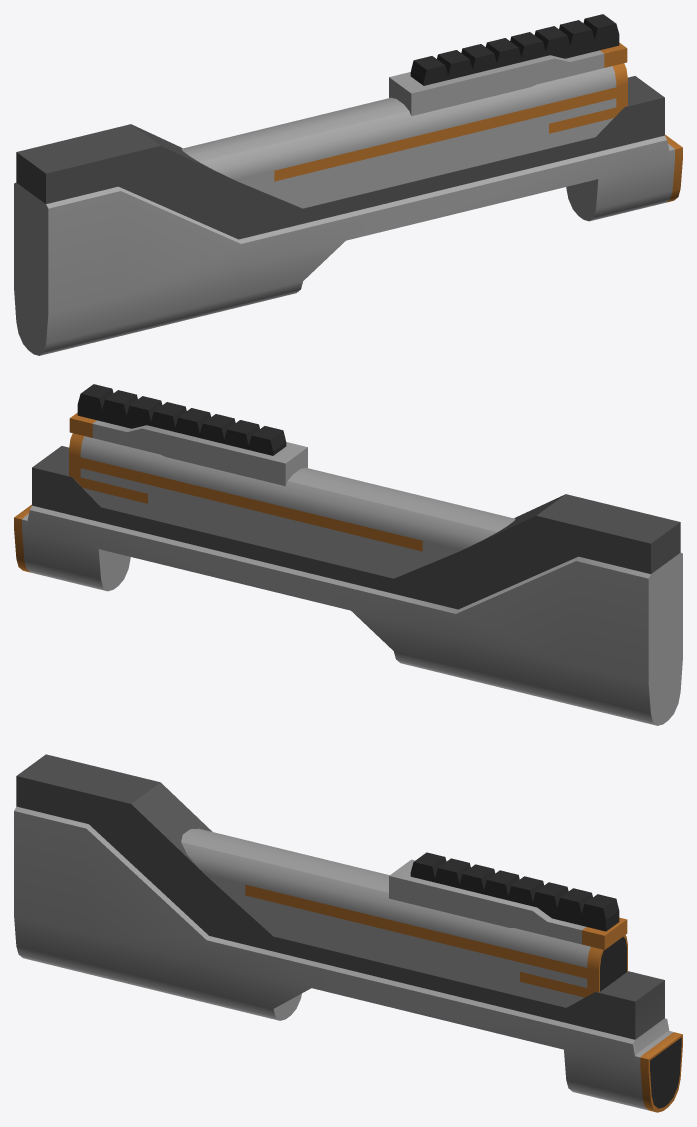
File: Body_Grenade_3.glb
3 views of the same model, one above another, from view 1: azimuth 30°, elevation 25°; view 2: azimuth 150°, elevation 25°; view 3: azimuth 330°, elevation 25° (orthographic).
Visible parts, largest first — view 1: Body_Grenade_3; view 2: Body_Grenade_3; view 3: Body_Grenade_3.
Part boxes in pixels (x1,y1,x2,y2): Body_Grenade_3: (14, 14, 682, 355); Body_Grenade_3: (14, 384, 682, 725); Body_Grenade_3: (14, 754, 682, 1112).
Bounding box in the file's own units: 1.46 × 0.4225 × 0.137.
